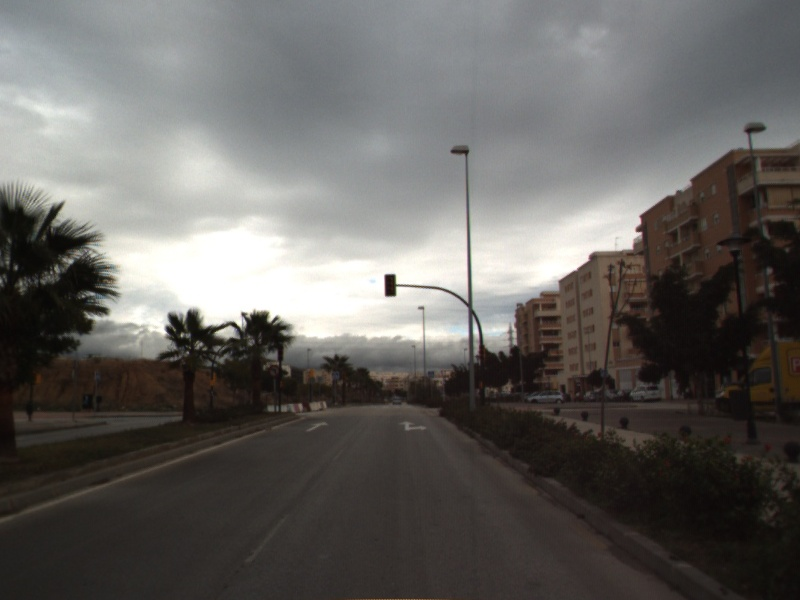STRAIGHT: (304, 419, 330, 433)
STRAIGHT_RIGHT: (397, 419, 429, 433)
